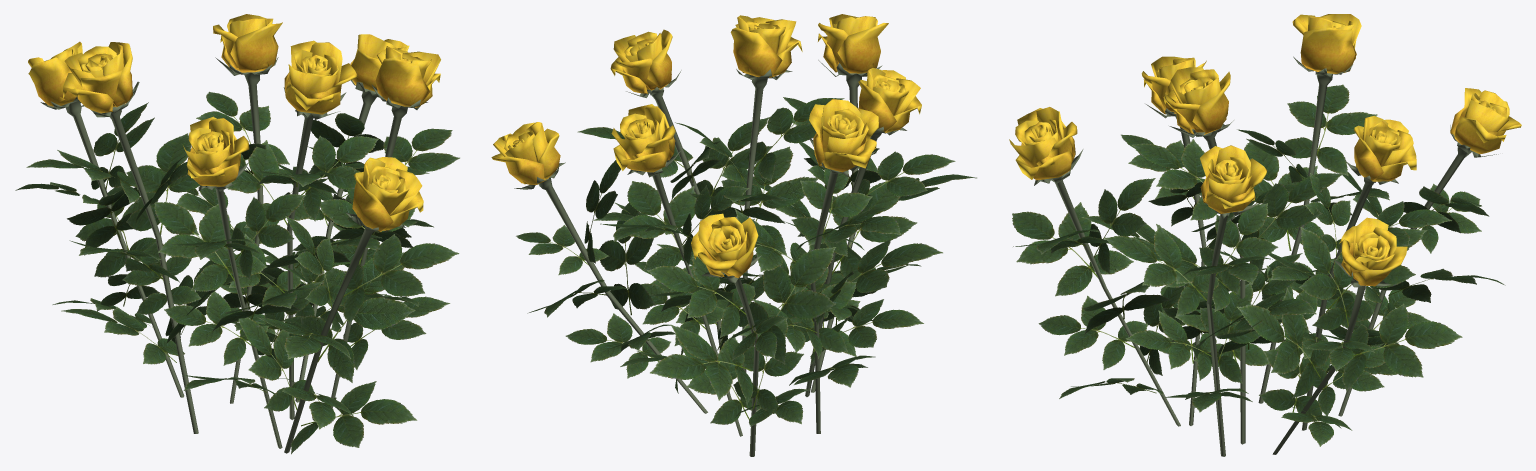
File: roses-bush_yellow_10k.gltf
The picture shows the model from 3 angles, left to right: view 1: azimuth 30°, elevation 25°; view 2: azimuth 150°, elevation 25°; view 3: azimuth 270°, elevation 25°; orthographic projection. The views are drawn at different scales.
Visible parts, largest first — view 1: roses-bush_yellow_10k; view 2: roses-bush_yellow_10k; view 3: roses-bush_yellow_10k.
Part boxes in pixels (bbox=[...]): roses-bush_yellow_10k: bbox=[15, 14, 459, 454]; roses-bush_yellow_10k: bbox=[491, 14, 976, 456]; roses-bush_yellow_10k: bbox=[1009, 14, 1521, 456].
Size of the model in its own units: 0.3953 by 0.3607 by 0.4517.
Materials: 3 (2 with a texture image).
